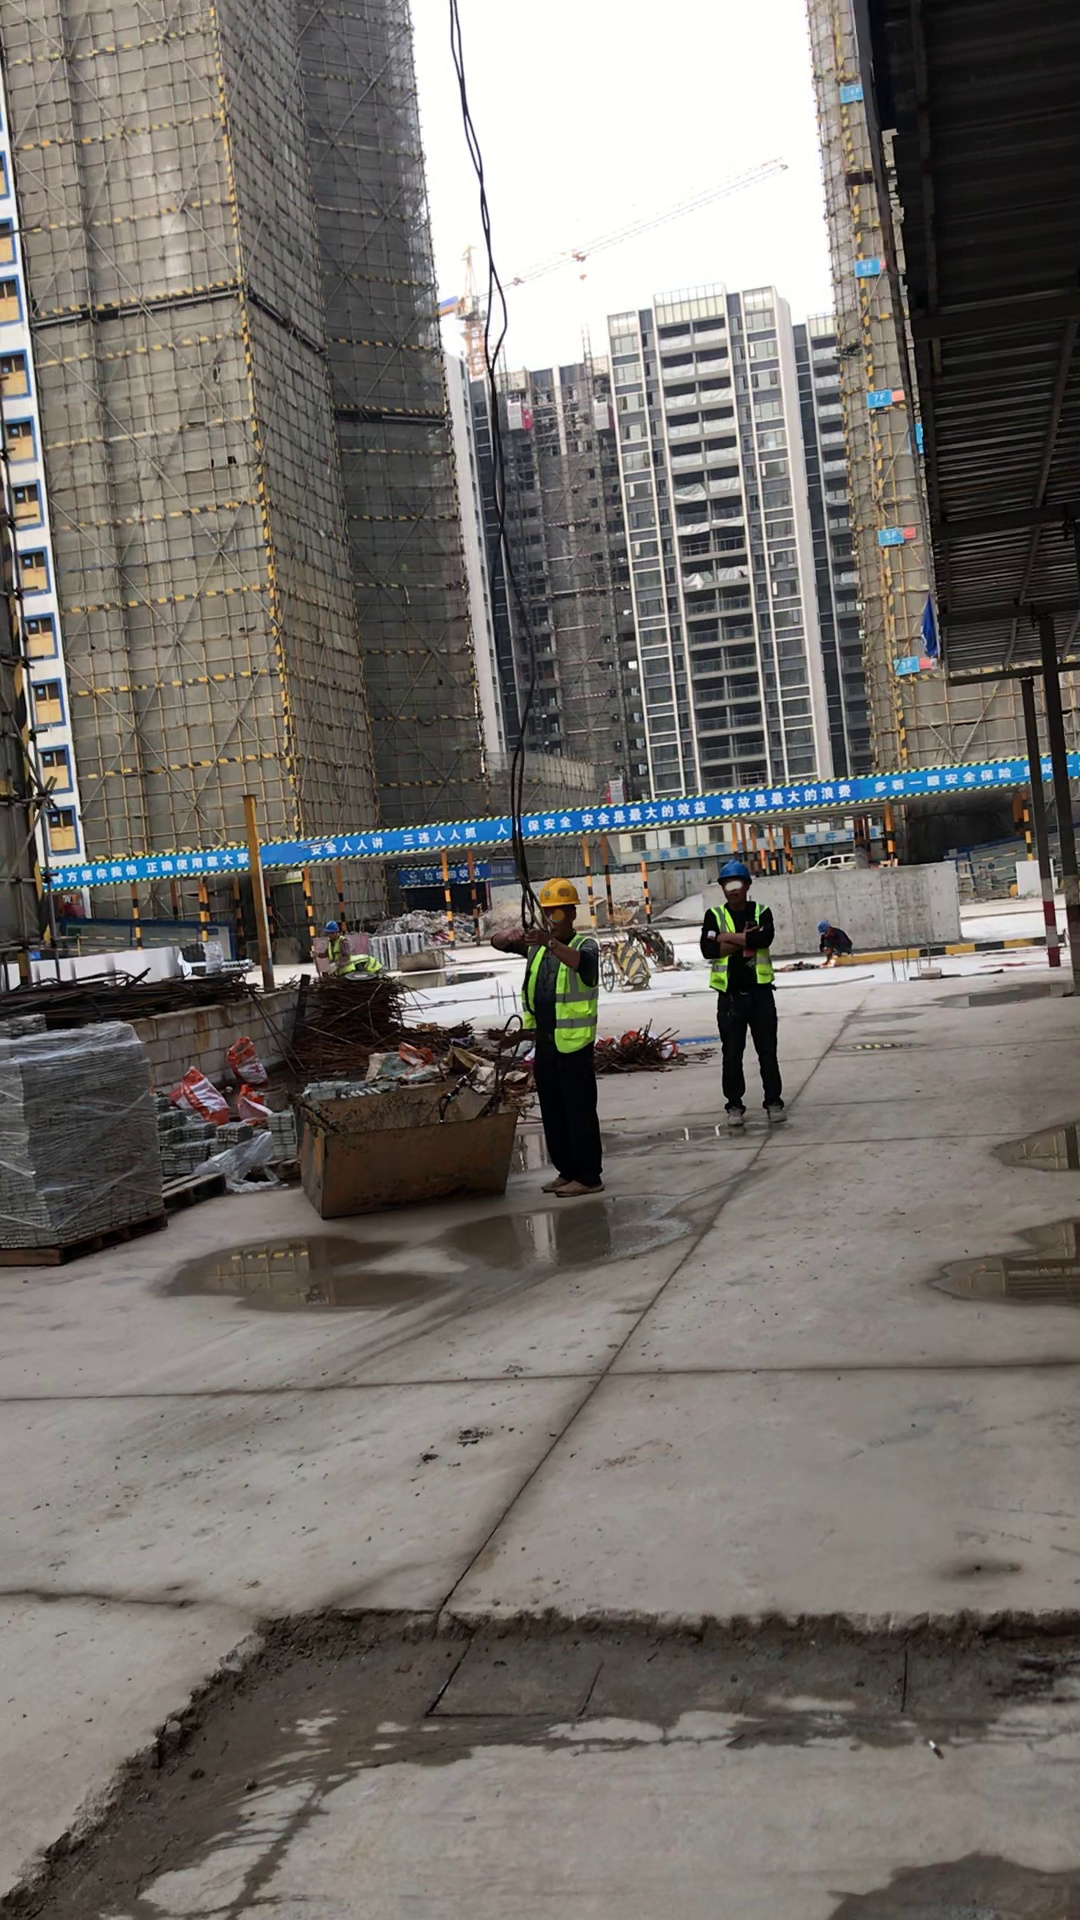handcart: (601, 936, 653, 994), (635, 918, 678, 967)
helmet: (534, 876, 585, 905), (715, 858, 755, 880), (323, 918, 343, 931), (817, 917, 832, 932)
hopper: (297, 1078, 528, 1211)
person: (694, 849, 804, 1141), (517, 875, 616, 1201), (309, 917, 359, 977), (815, 915, 861, 969)
slogan: (56, 755, 1080, 895)
vest: (529, 935, 599, 1050), (702, 903, 777, 988), (326, 942, 353, 971), (355, 955, 382, 974)
